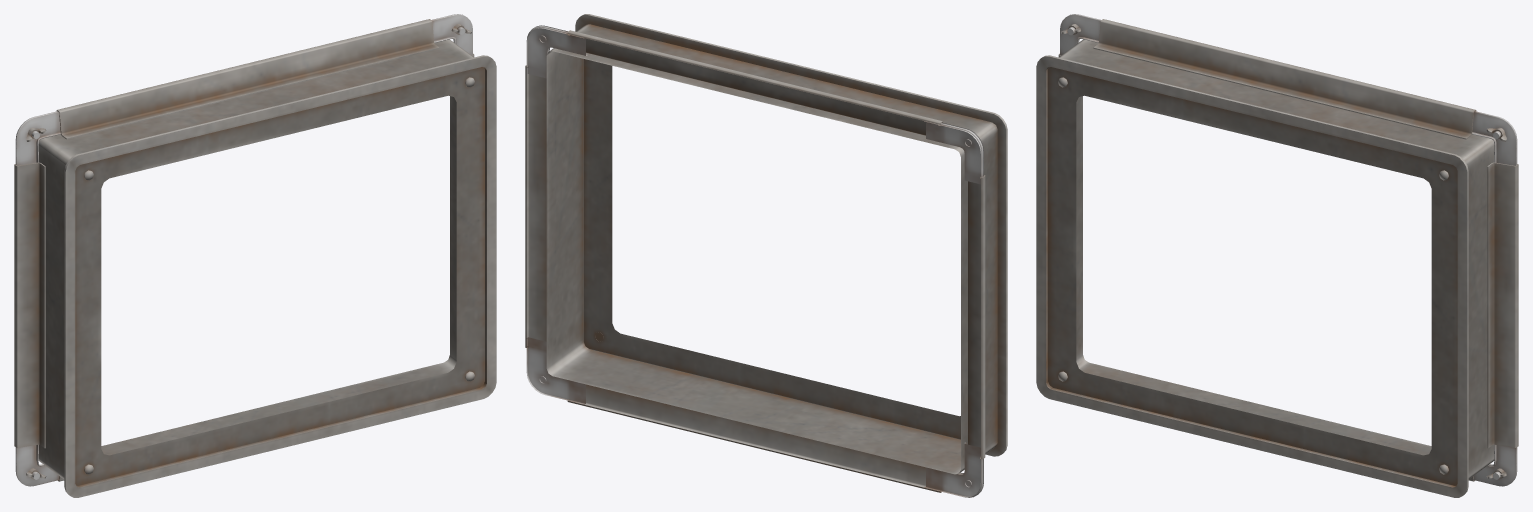
Rendered from connector_01.glb.
3 views of the same model, side by side, from view 1: azimuth 30°, elevation 25°; view 2: azimuth 150°, elevation 25°; view 3: azimuth 330°, elevation 25° (orthographic).
Parts seen in each view (by area): view 1: modular_airduct_rectangular_01_connector_01.001; view 2: modular_airduct_rectangular_01_connector_01.001; view 3: modular_airduct_rectangular_01_connector_01.001.
Part boxes in pixels (x1,y1,x2,y2): modular_airduct_rectangular_01_connector_01.001: (14, 14, 496, 497); modular_airduct_rectangular_01_connector_01.001: (525, 14, 1007, 497); modular_airduct_rectangular_01_connector_01.001: (1036, 14, 1518, 497).
Bounding box in the file's own units: 0.6634 × 0.5126 × 0.0964.
1 material, 1 textured.
